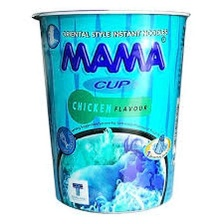paper_cup: (27, 5, 194, 216)
